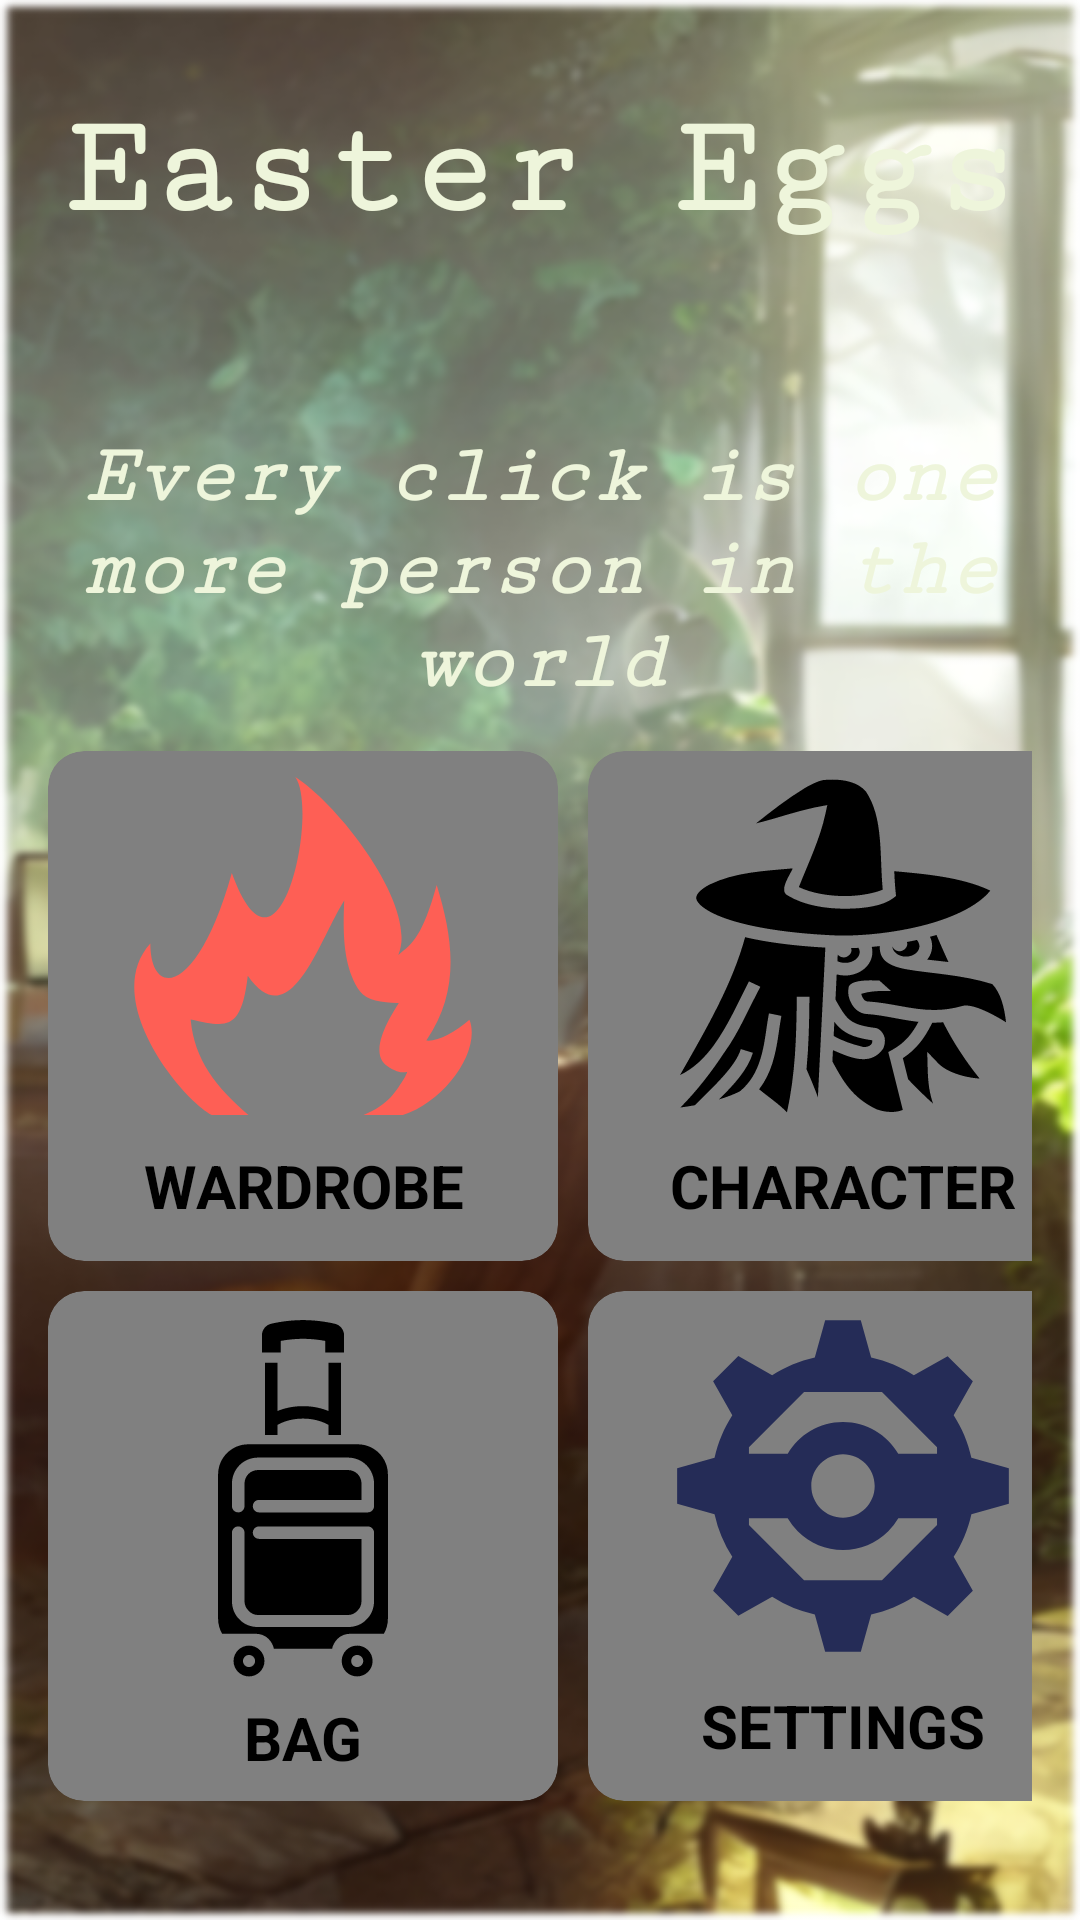

Point at icon controls on the screen. Image size 1080px×1920px, points as (x=x, y=y).
flame: (x=303, y=946)
rolling suitcase: (x=303, y=1498)
